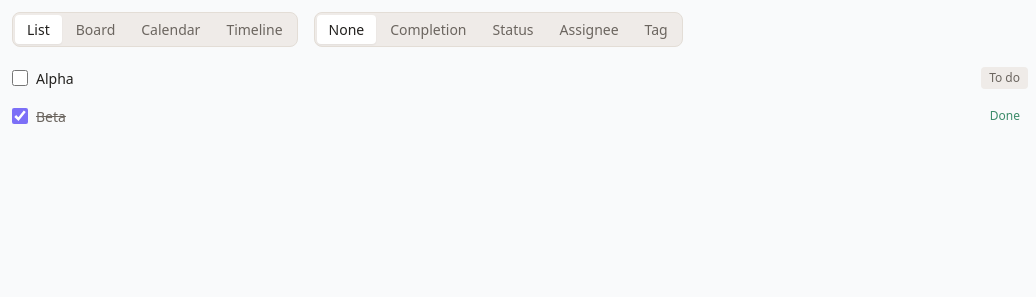
ViewContainer › switching to Board renders board-view
Click the "Board" button inside the ViewSwitcher group
Step 1. Click the button "Board" → x=95, y=30, box [64,15,127,44]
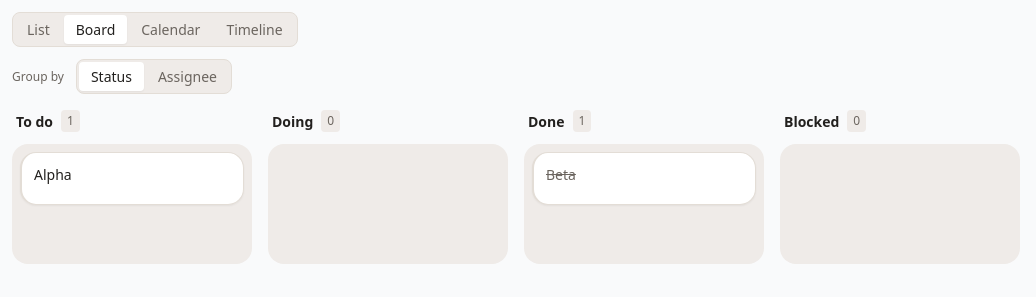
Expected: the element with test id "board-view" is shown
Expected: the element with test id "list-view-lens" is gone
